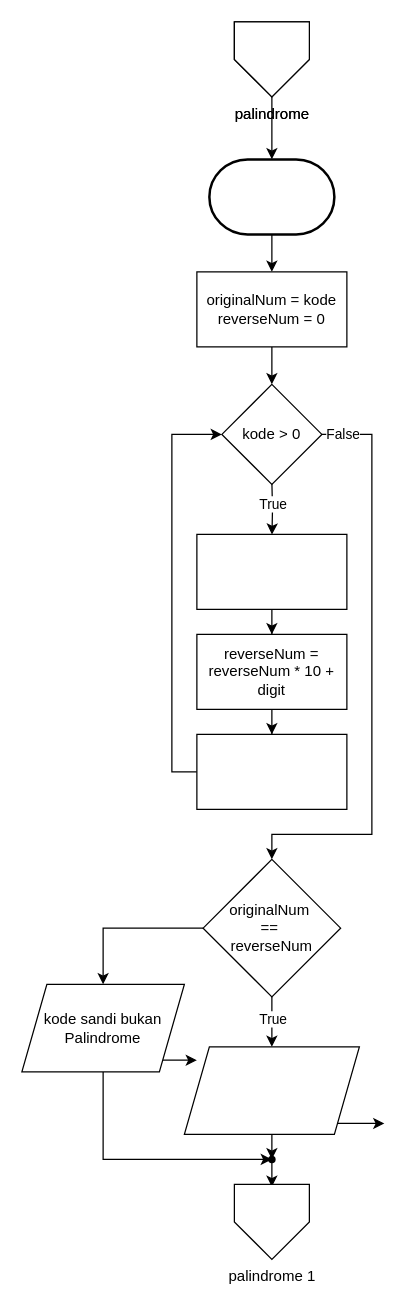
This 416x1308 diagram has some shape labels left out. Each missing label, with the box of its shape:
digit = kode % 10: (196, 533, 347, 609)
kode / 10: (196, 733, 347, 809)
kode sandi adalah Palindrome: (183, 1046, 359, 1134)
start: (208, 158, 335, 235)
